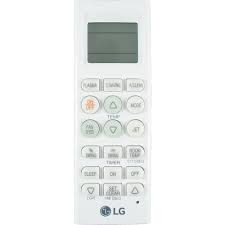remote control: (76, 0, 152, 224)
